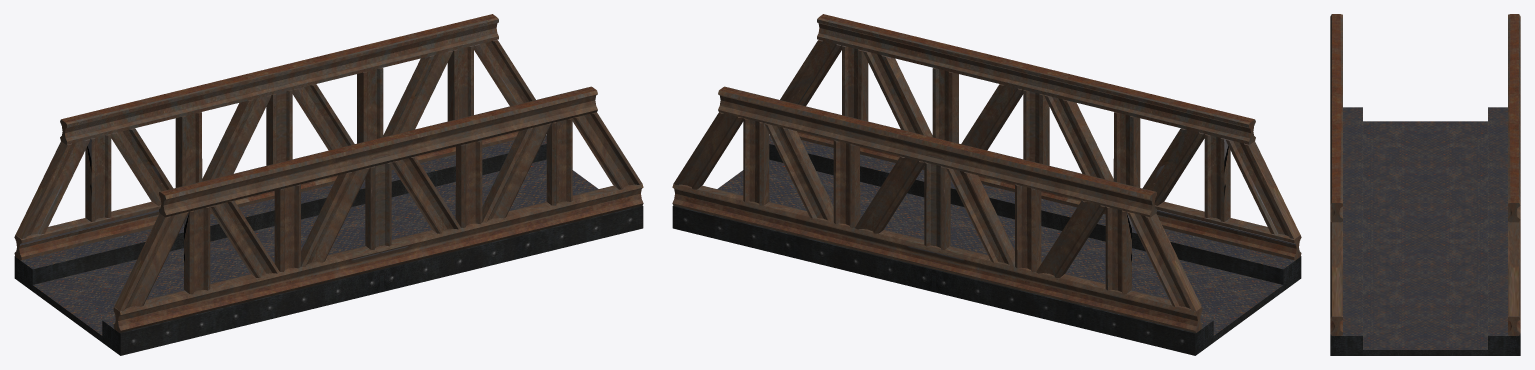
The model's file is truss_bridge.obj.
3 renders of one model, left to right at view 1: azimuth 30°, elevation 25°; view 2: azimuth 150°, elevation 25°; view 3: azimuth 270°, elevation 25°, orthographic. The views are drawn at different scales.
Visible parts, largest first — view 1: truss_bridge; view 2: truss_bridge; view 3: truss_bridge.
Boxes of the visible parts, bbox=[...] form: truss_bridge: bbox=[14, 14, 643, 355]; truss_bridge: bbox=[672, 14, 1301, 355]; truss_bridge: bbox=[1330, 14, 1520, 355].
Size of the model in its own units: 12.23 by 3.32 by 4.31.
Materials: 1 (1 with a texture image).
